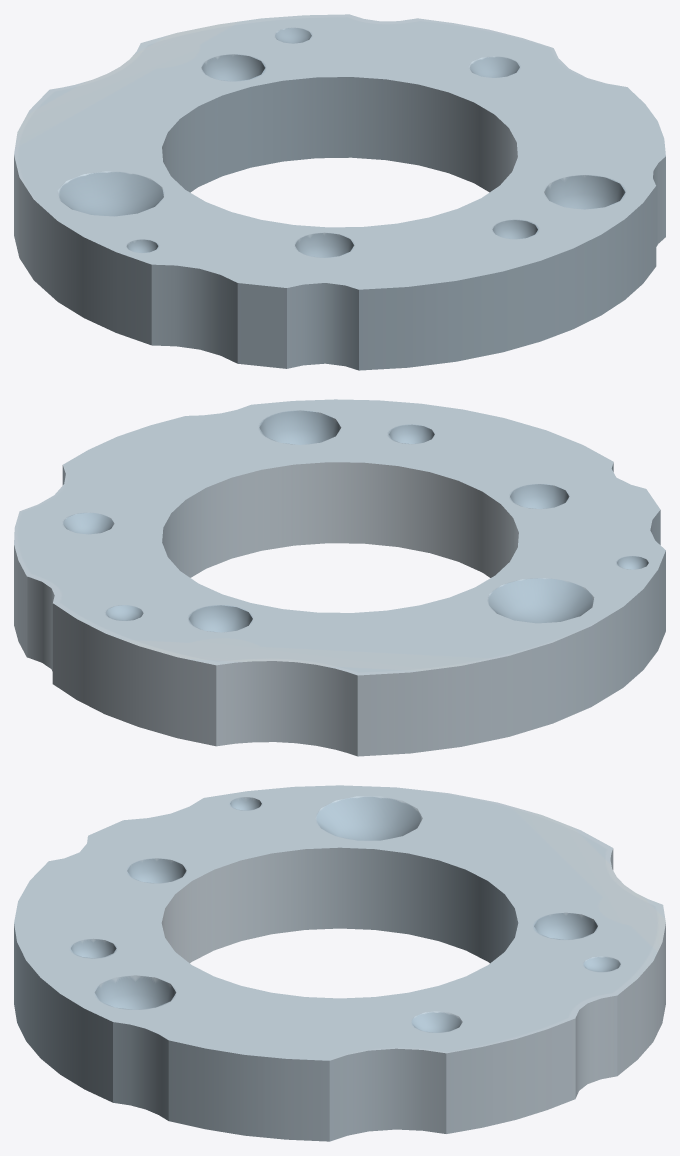
The model's file is moon.FBX.
3 views of the same model, one above another, from view 1: azimuth 30°, elevation 25°; view 2: azimuth 150°, elevation 25°; view 3: azimuth 270°, elevation 25° (orthographic).
Parts seen in each view (by area): view 1: Moon; view 2: Moon; view 3: Moon.
Boxes of the visible parts, left/top/right/bottom form: Moon: left=14, top=14, right=665, bottom=370; Moon: left=14, top=399, right=665, bottom=756; Moon: left=14, top=785, right=665, bottom=1141.
Bounding box in the file's own units: 51.17 × 7 × 51.19.
Materials: 1 (1 with a texture image).
